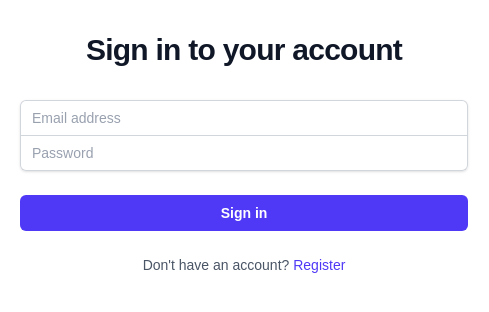
Test case: Login page › failed login › should show a generic error message when fetch throws
In the field with placeholder "Email address": (244, 118) 20,100 -> 468,136, type "alice@example.com"
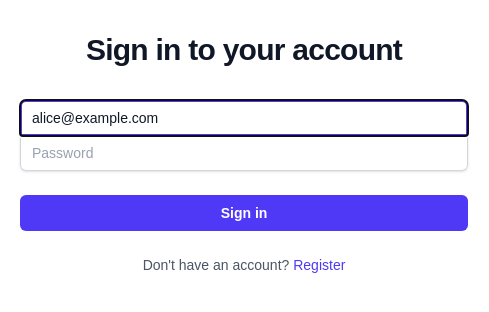
In the password field with placeholder "Password": (244, 152) 20,134 -> 468,170, type "password"
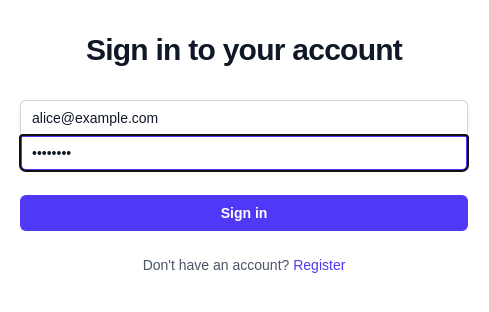
Click the button "Sign in": (244, 212) 20,194 -> 468,230
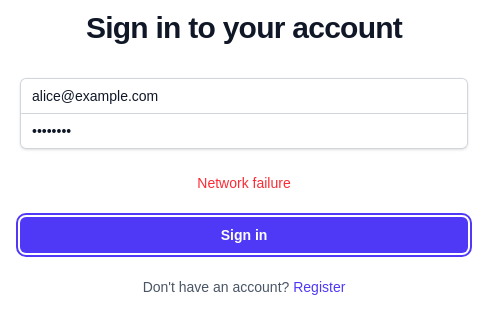
Expected: the text "Network failure" is shown, 197,174 -> 291,190
